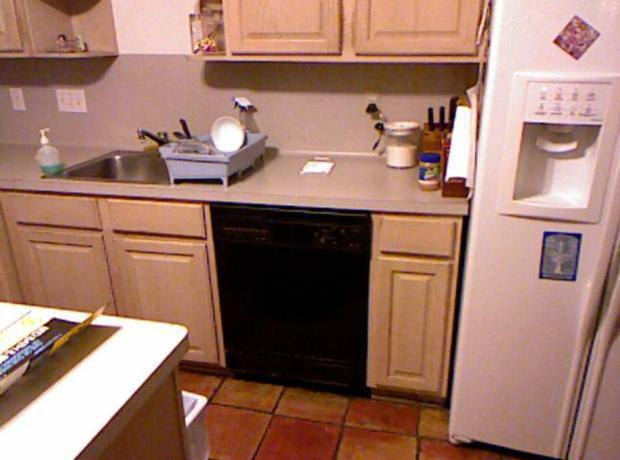Lavaplatos: (43, 128, 239, 204)
